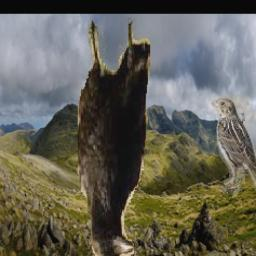Crow: (77, 19, 149, 256)
Sparrow: (211, 96, 256, 203)
